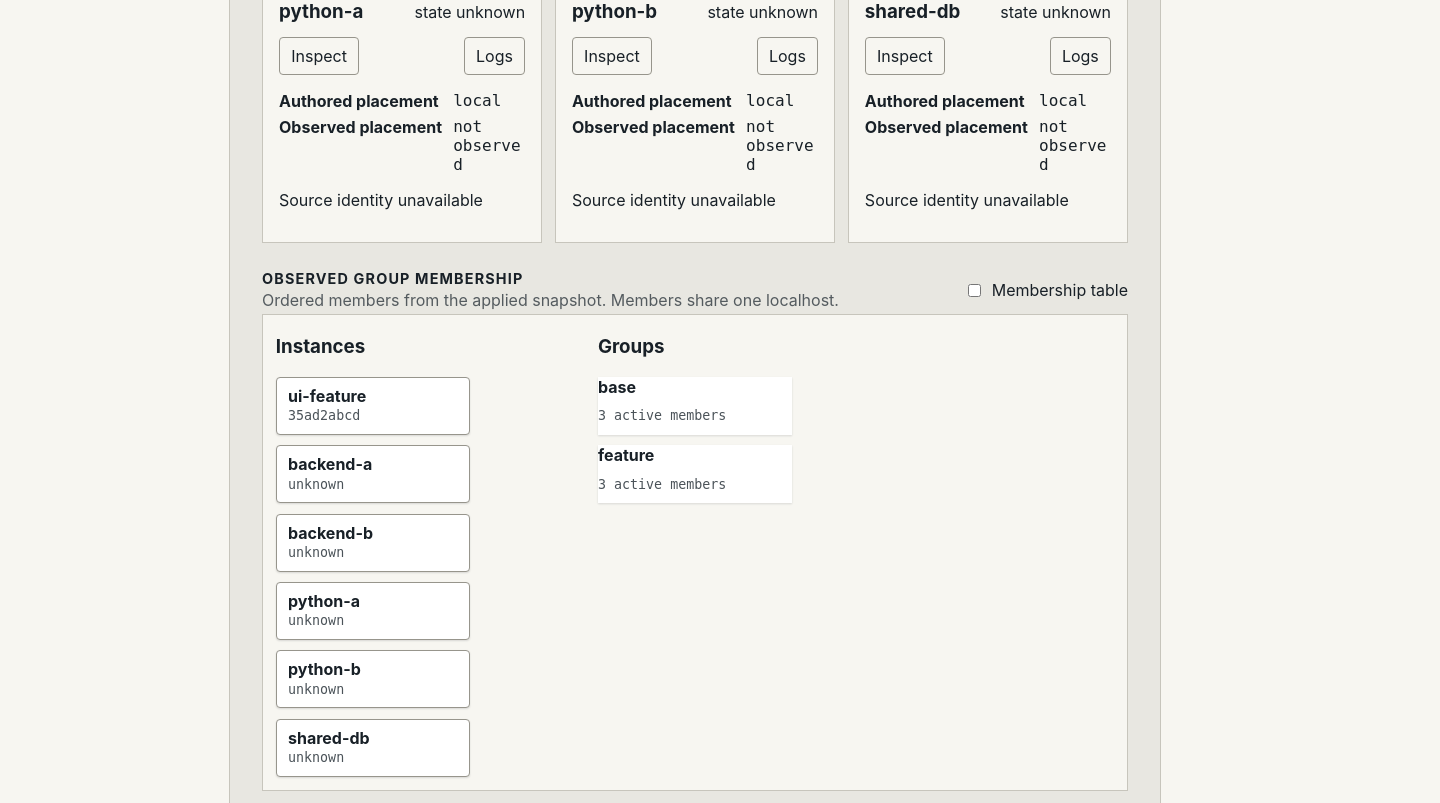
APM ProjectRunner GUI › renders the observed runtime patch bay while running and performs a keyboard-only membership move
(page scrolled)
Expected: the heading "Observed group membership" is shown, [262,270,524,287]
Expected: the text "Ordered members from the applied snapshot. Members share one localhost." is shown, [262,290,839,310]
Click the button "ui-feature 35ad2abcd" at (373, 406), box [276,377,470,435]
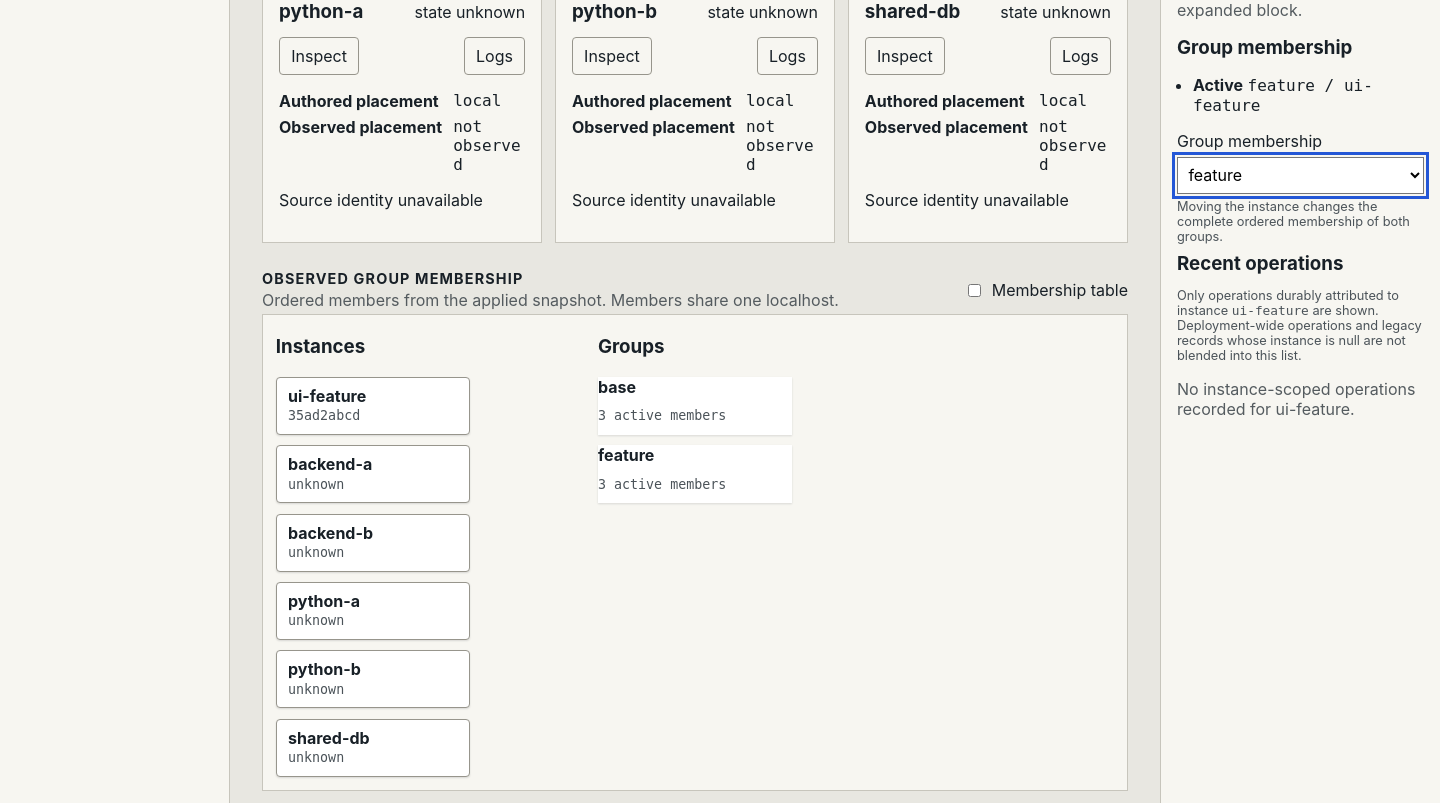
Select "base" in the dropdown named "Group for ui-feature" at (1300, 175), box [1177,157,1424,194]
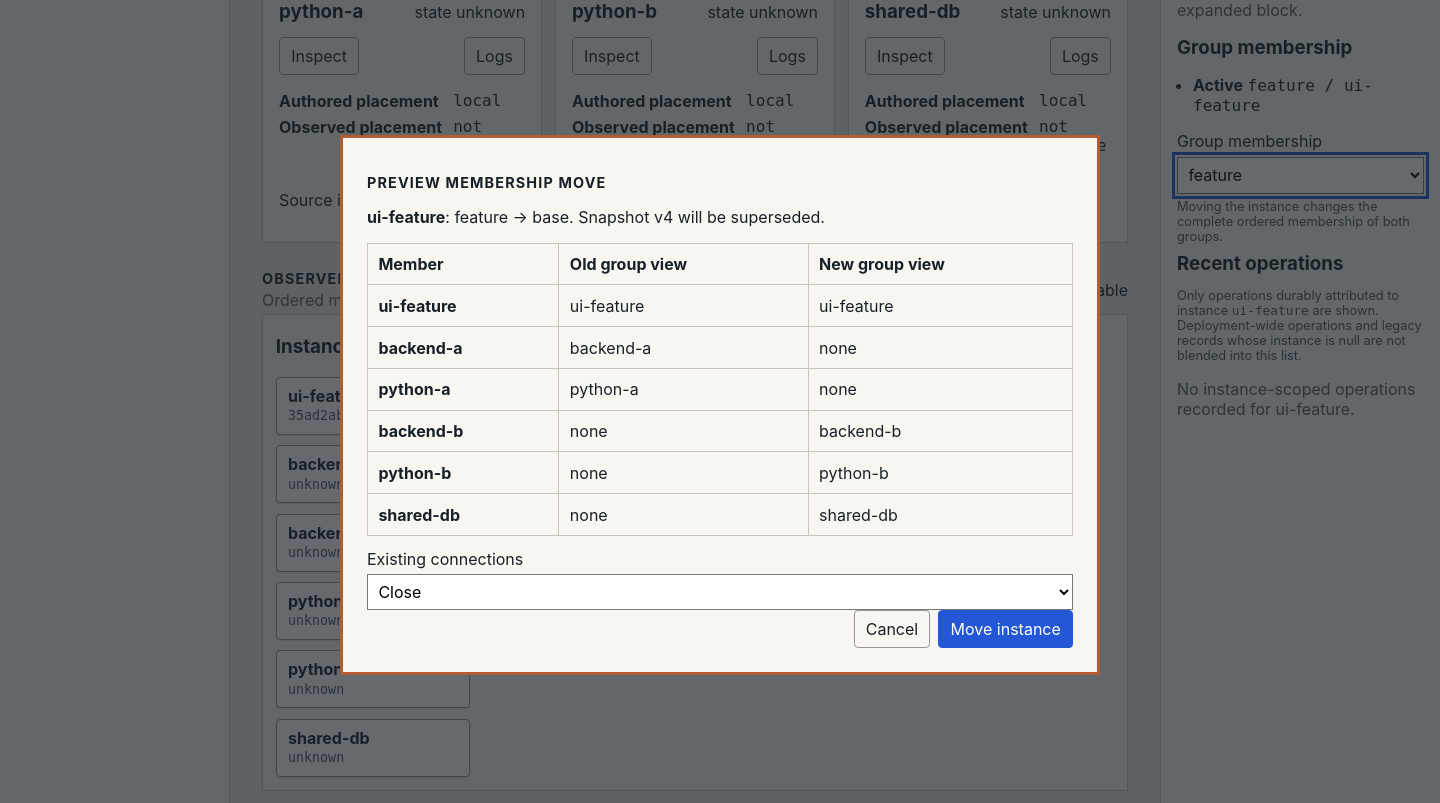
Expected: the text "ui-feature: feature → base. Snapshot v4 will be superseded." is shown, [367,206,825,226]
Expected: the column heading "backend-b" is shown, [368,410,559,452]
Click the button "Move instance" at (1006, 629), box [938,610,1073,648]
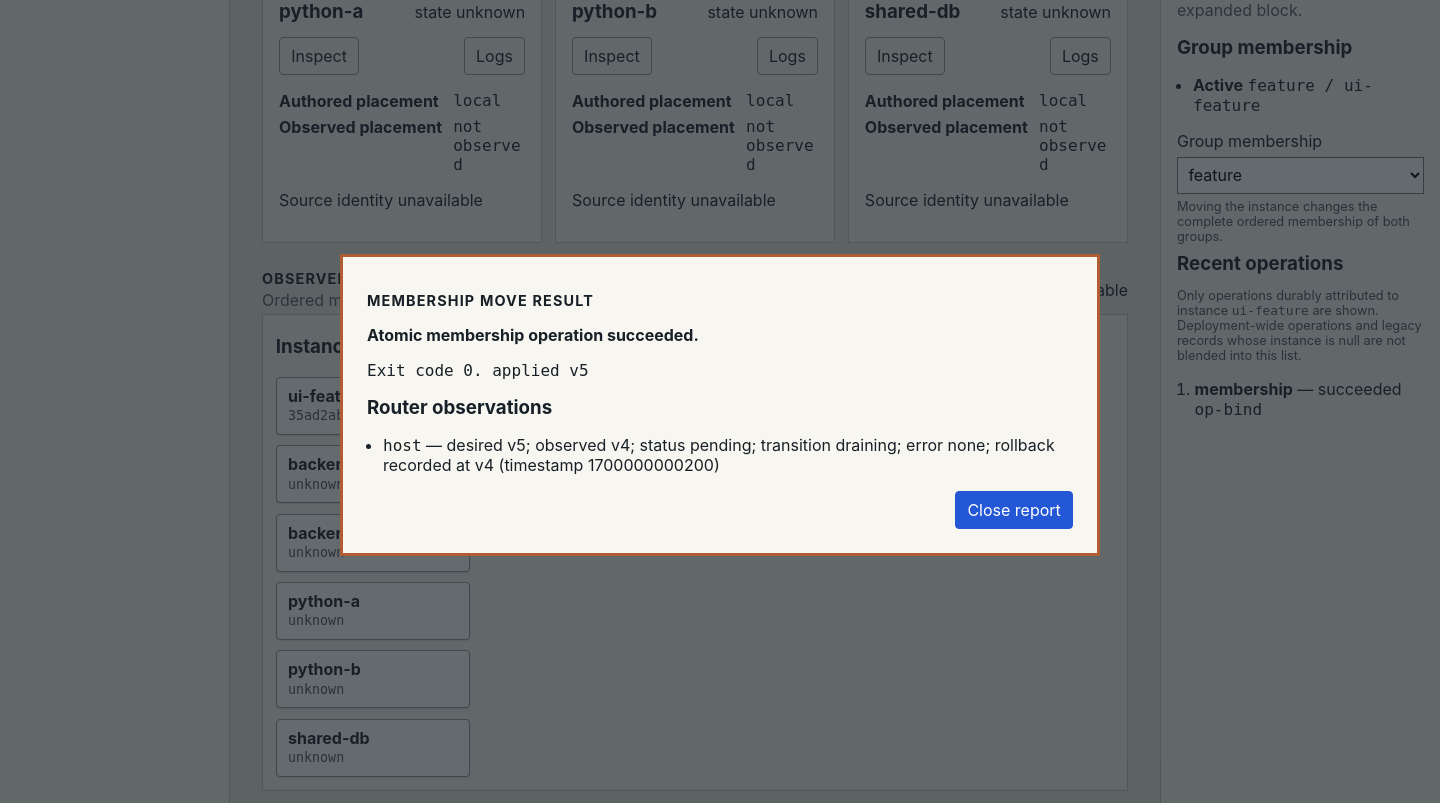
Expected: the text "Atomic membership operation succeeded." is shown, [367,326,699,346]
Expected: the text "Exit code 0. applied v5" is shown, [367,362,589,380]
Expected: the list item "desired v5; observed v4; status pending; transition draining; error none; rollback recorded at v4" is shown, [383,436,1073,476]
